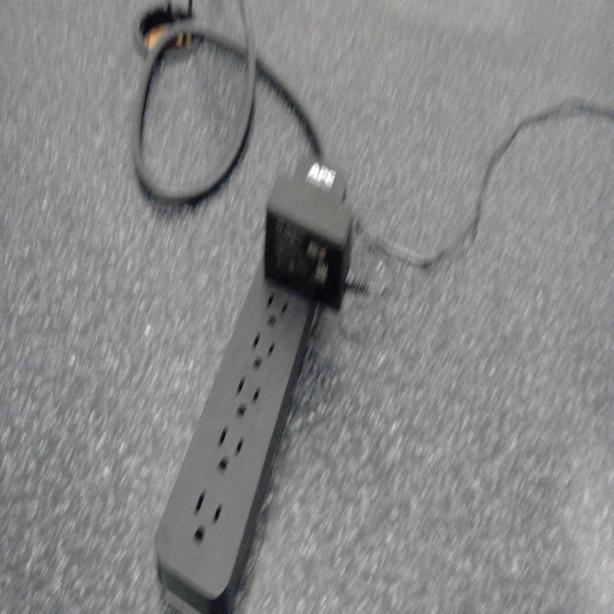typeb: (187, 487, 228, 549), (210, 426, 248, 479), (229, 377, 268, 422), (248, 332, 280, 372), (262, 287, 291, 327)
